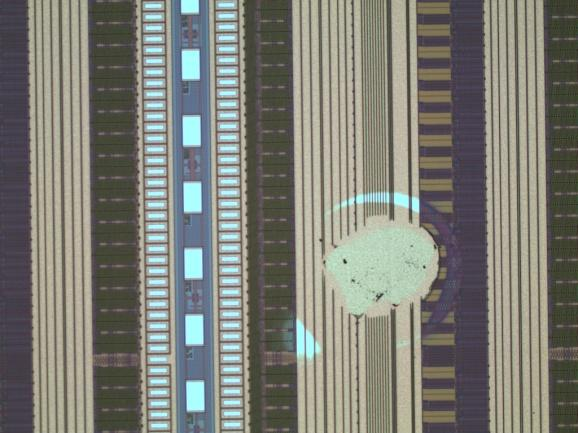BLOCK ETCH: (266, 186, 471, 372)
